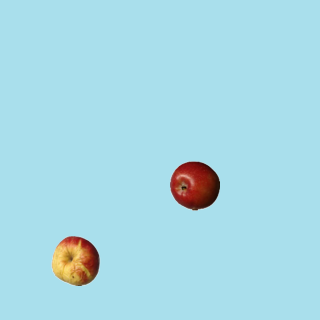Apple Braeburn: (169, 160, 219, 210)
Apple Red Yellow 1: (50, 235, 100, 285)
